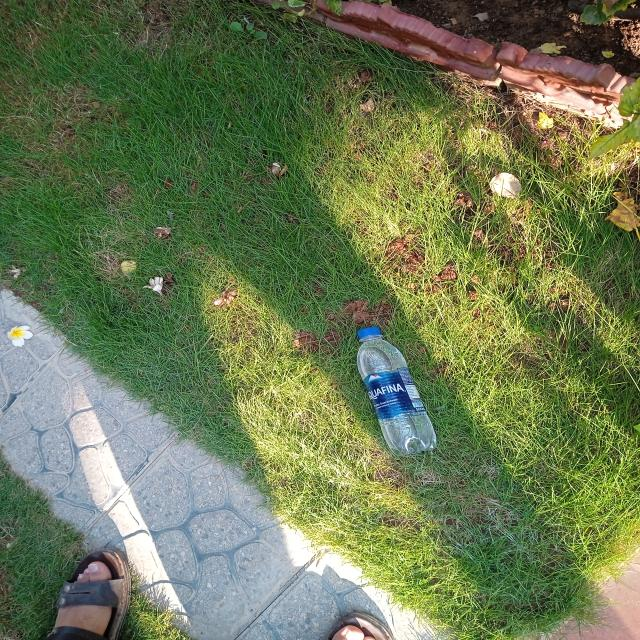Plastic: (348, 322, 446, 462)
